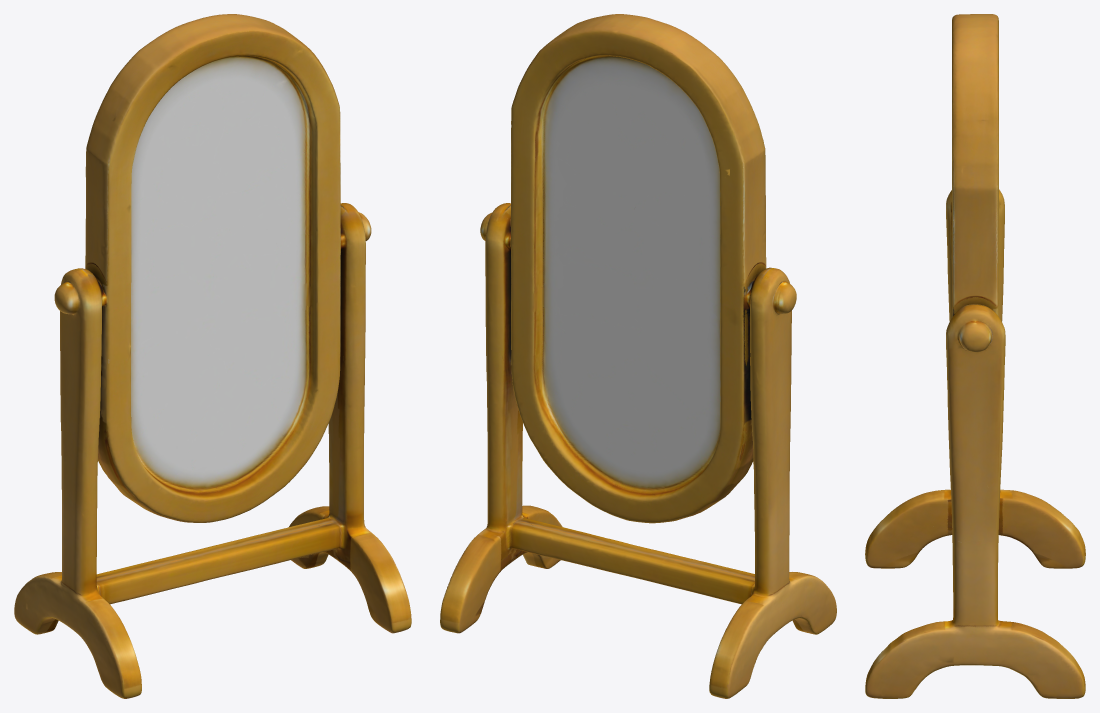
The model's file is mirror.glb.
3 renders of one model, left to right at view 1: azimuth 30°, elevation 25°; view 2: azimuth 150°, elevation 25°; view 3: azimuth 270°, elevation 25°, orthographic.
Size of the model in its own units: 1.08 by 2 by 0.6638.
1 material, 1 textured.
